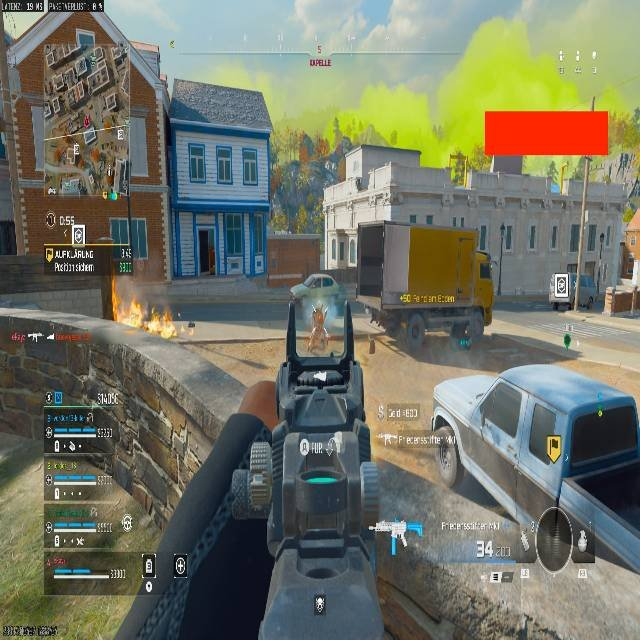head: (313, 301, 321, 311)
player: (305, 301, 328, 350)
